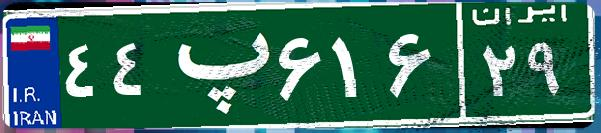1: (330, 28, 385, 110)
2: (475, 38, 525, 113)
4: (57, 26, 110, 107), (110, 28, 158, 105)
6: (385, 28, 445, 110), (273, 28, 330, 110)
9: (525, 38, 570, 115)
پ: (158, 15, 273, 115)
